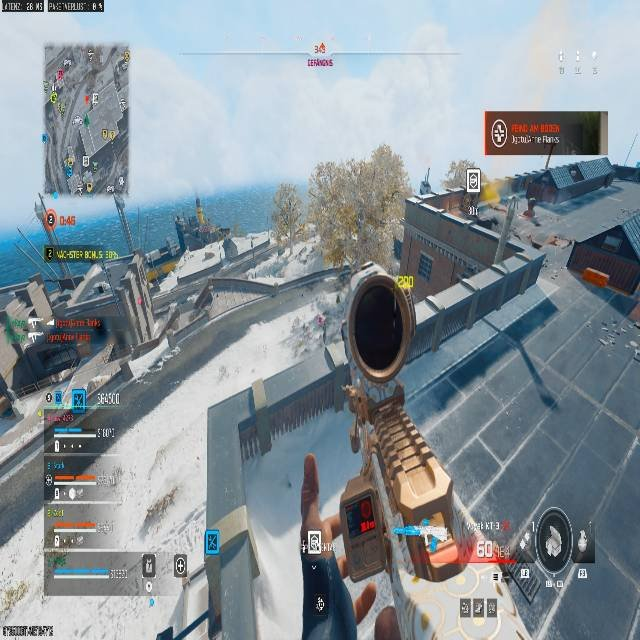head: (344, 272, 410, 368)
player: (333, 262, 353, 304), (315, 312, 326, 338)
